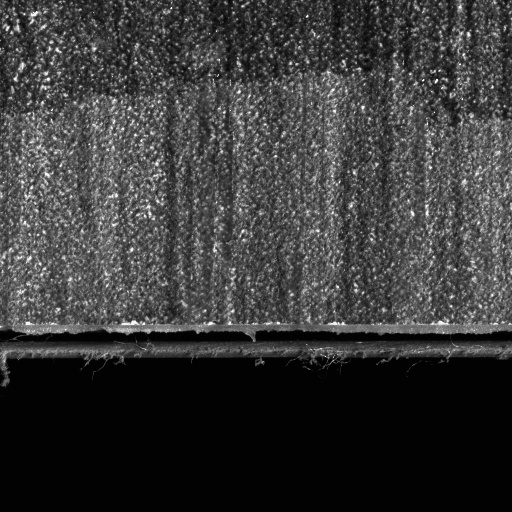kaijiao: (0, 314, 511, 363)
